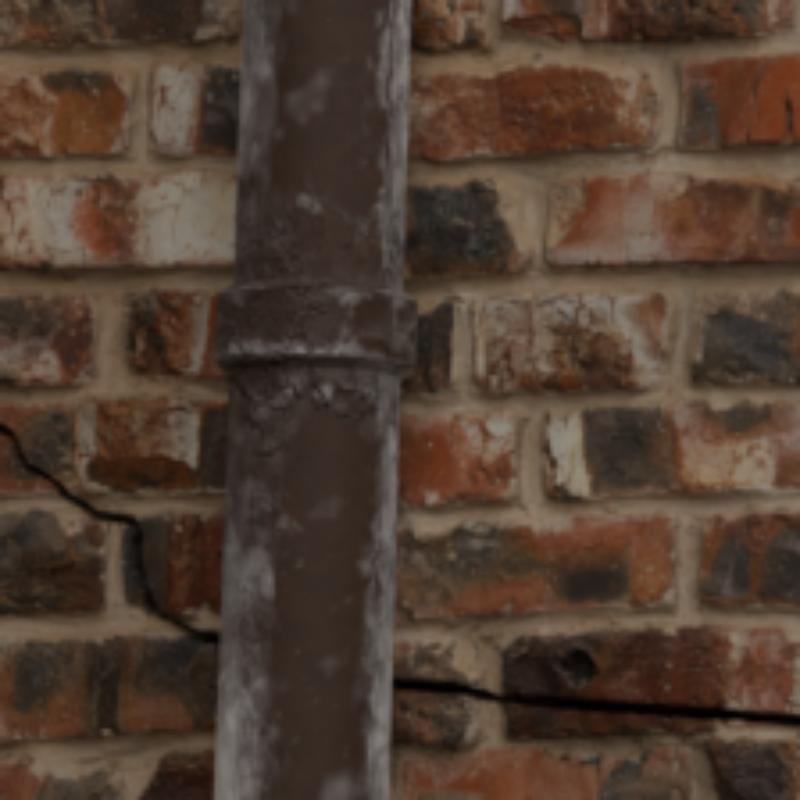pothole: (0, 425, 218, 643), (393, 675, 796, 721)
